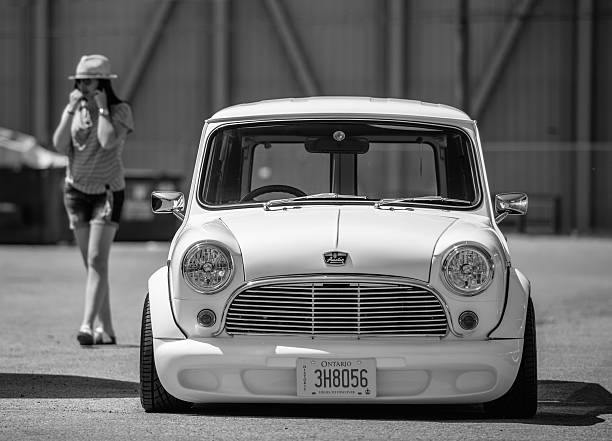licence: (291, 356, 384, 402)
